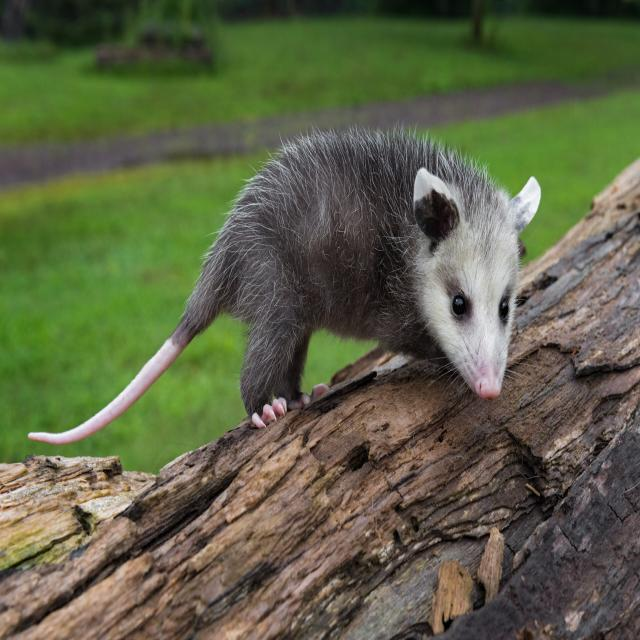Possum: (28, 122, 534, 454)
